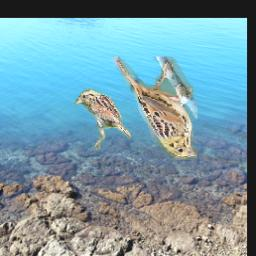Sparrow: (110, 56, 197, 160), (75, 89, 132, 151)
